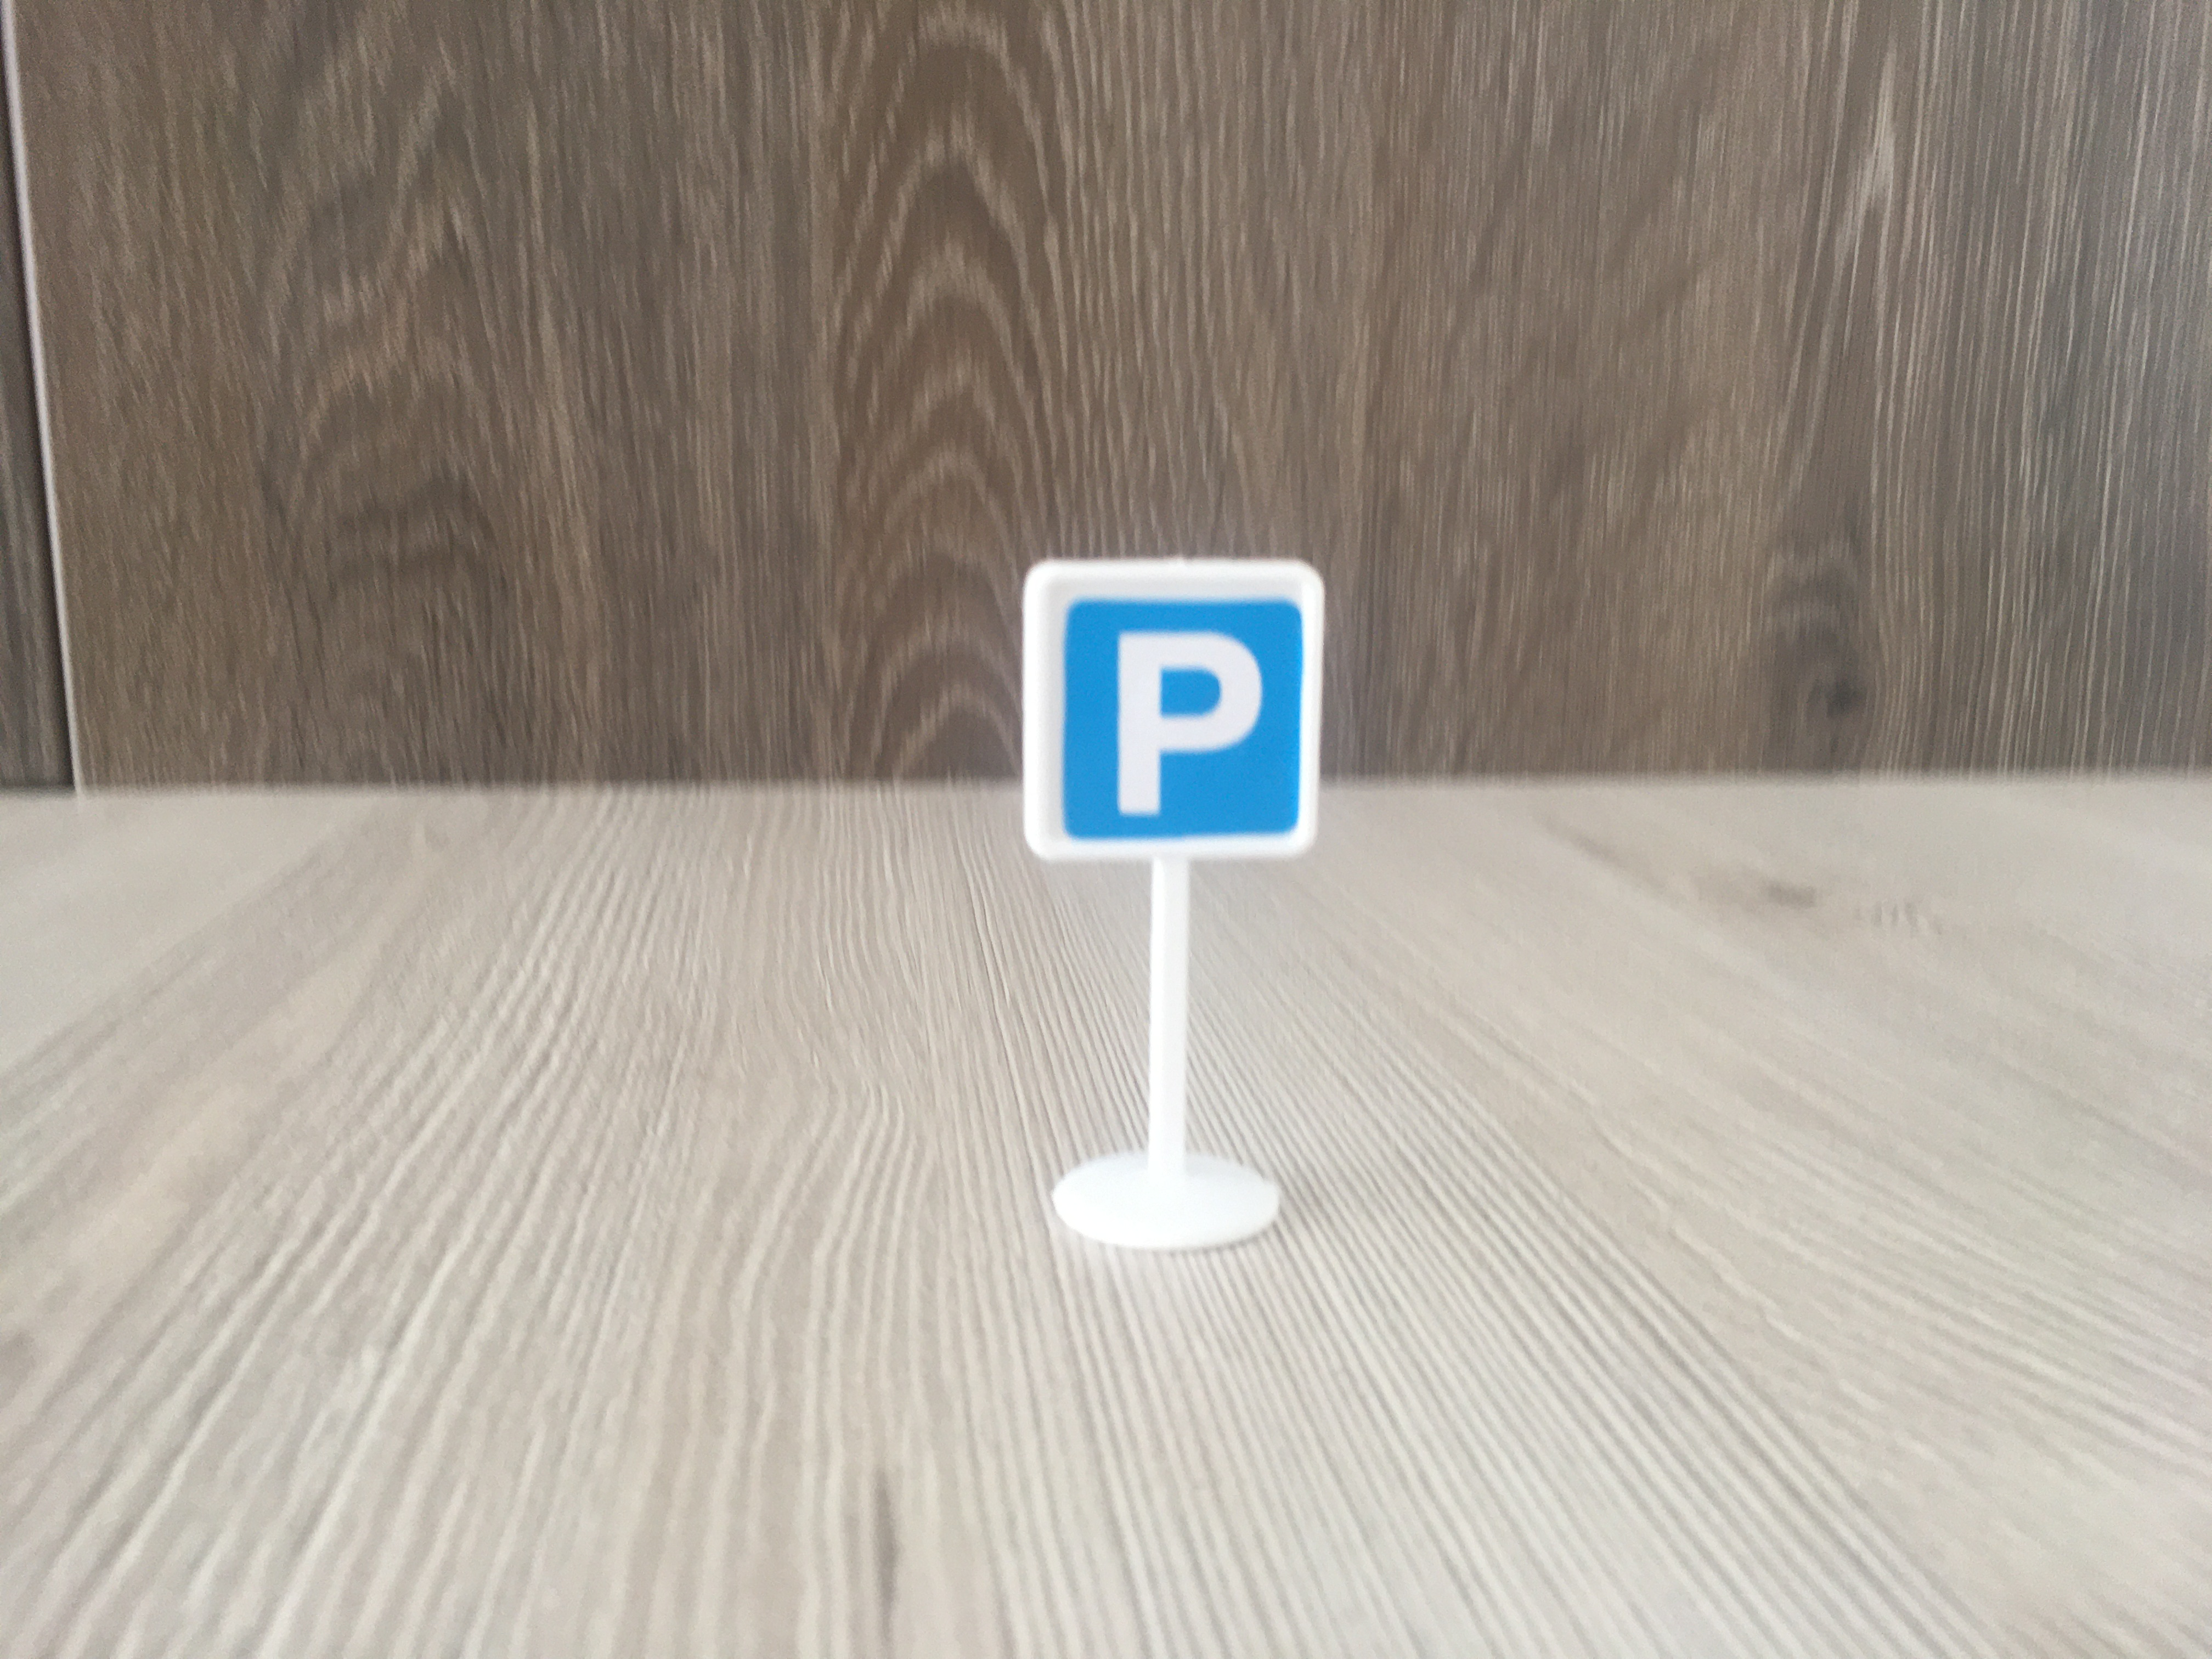parking: (1026, 556, 1327, 864)
